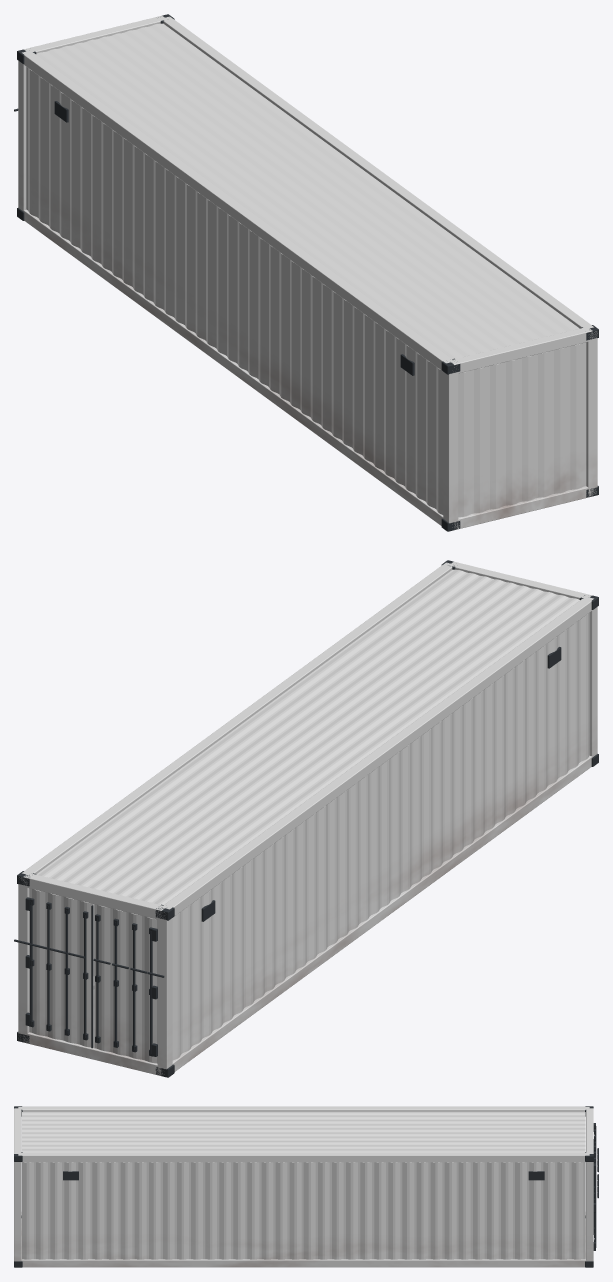
Rendered from container.glb.
3 renders of one model, top to bottom at view 1: azimuth 30°, elevation 25°; view 2: azimuth 150°, elevation 25°; view 3: azimuth 270°, elevation 25°, orthographic. The views are drawn at different scales.
Visible parts, largest first — view 1: ContainerBody, ContainerHardware; view 2: ContainerBody, ContainerHardware; view 3: ContainerBody, ContainerHardware.
Boxes of the visible parts, x1,y1,x2,y2 form: ContainerBody: (18, 15, 597, 530); ContainerHardware: (14, 14, 598, 531); ContainerBody: (18, 561, 597, 1076); ContainerHardware: (14, 560, 598, 1077); ContainerBody: (14, 1106, 593, 1267); ContainerHardware: (14, 1106, 598, 1267).
Size of the model in its own units: 2.48 by 2.59 by 12.3.
Materials: 2 (1 with a texture image).
